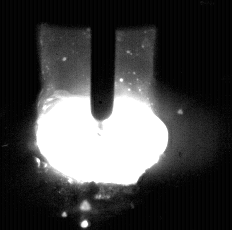arame: (91, 0, 115, 137)
poca: (35, 0, 170, 230)
